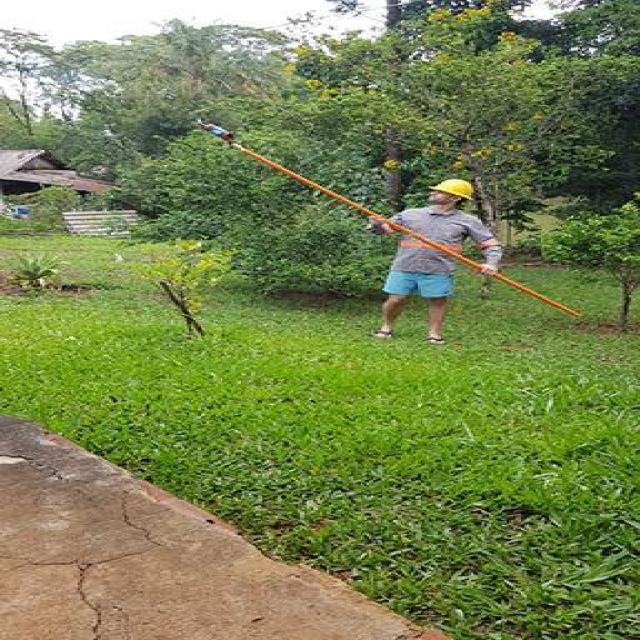helmet: (424, 178, 474, 210)
